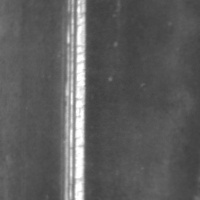scratches: (55, 1, 89, 199)
